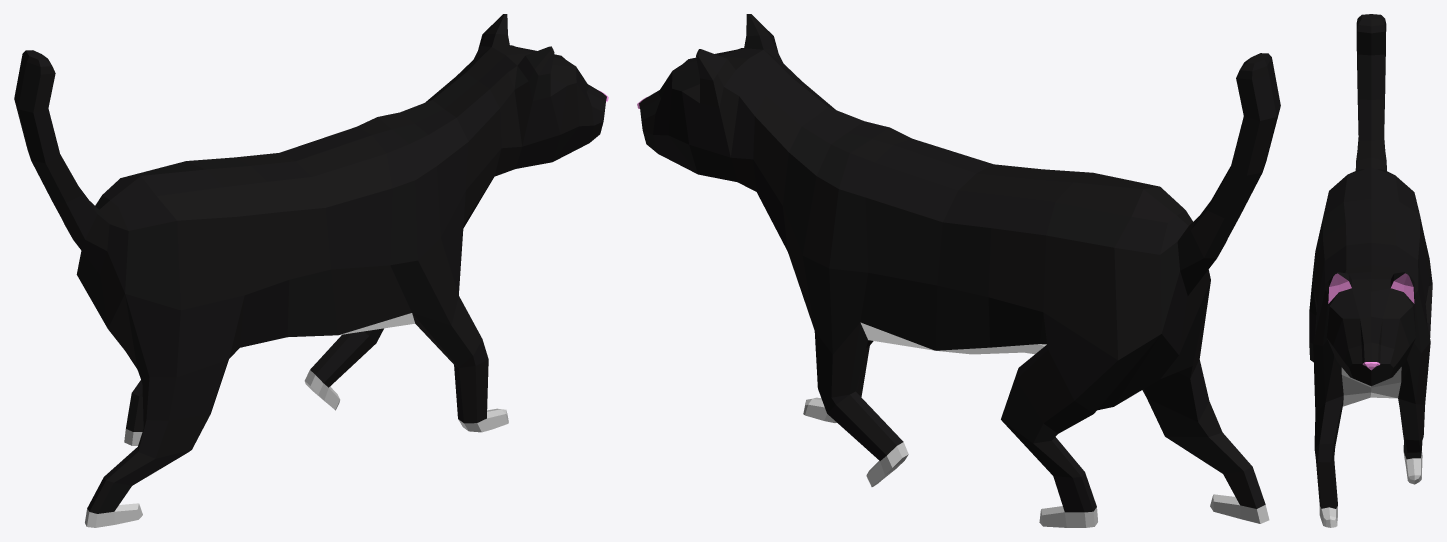
The model's file is Cat.obj.
3 renders of one model, left to right at view 1: azimuth 30°, elevation 25°; view 2: azimuth 150°, elevation 25°; view 3: azimuth 270°, elevation 25°, orthographic. The views are drawn at different scales.
Parts seen in each view (by area): view 1: Cat_Cylinder; view 2: Cat_Cylinder; view 3: Cat_Cylinder.
Boxes of the visible parts, bbox=[...] form: Cat_Cylinder: bbox=[14, 14, 608, 527]; Cat_Cylinder: bbox=[637, 14, 1280, 527]; Cat_Cylinder: bbox=[1309, 14, 1432, 527].
Bounding box in the file's own units: 5.86 × 4.36 × 1.4.
